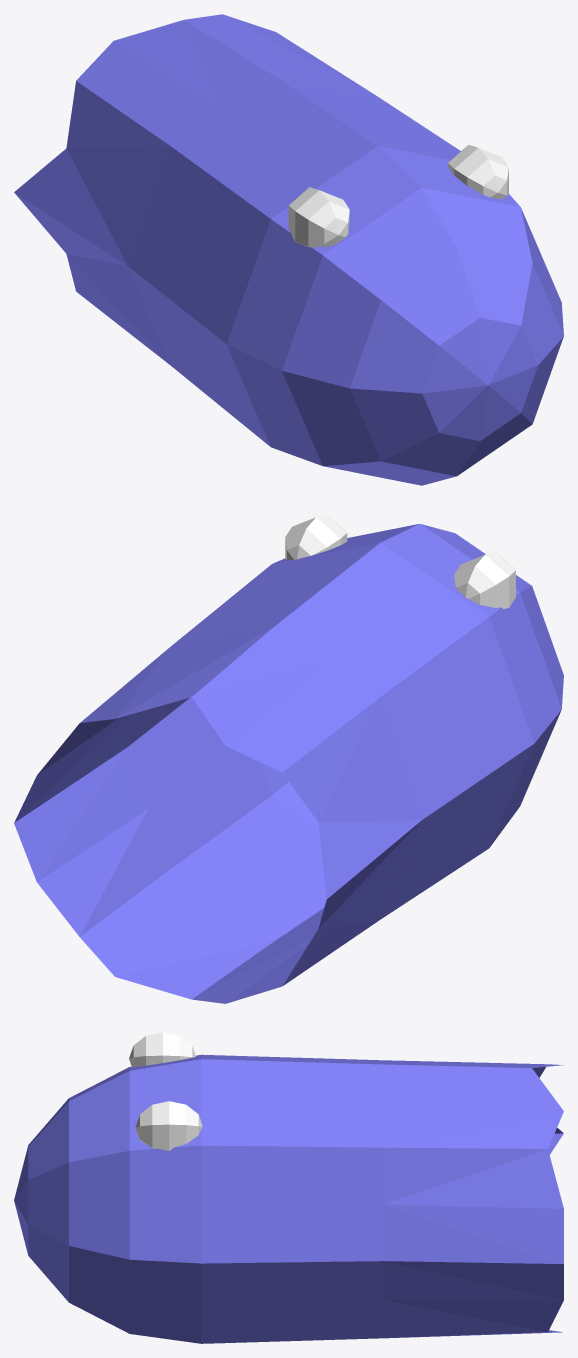
The model's file is blueghost_wtf.obj.
3 views of the same model, one above another, from view 1: azimuth 30°, elevation 25°; view 2: azimuth 150°, elevation 25°; view 3: azimuth 270°, elevation 25° (orthographic). The views are drawn at different scales.
Visible parts, largest first — view 1: group1, group2; view 2: group1, group2; view 3: group1, group2.
Part boxes in pixels (x1,y1,x2,y2): group1: (14,14,563,485); group2: (288,144,508,247); group1: (14,524,563,1003); group2: (285,514,515,608); group1: (14,1054,563,1343); group2: (129,1032,202,1150).
Bounding box in the file's own units: 371 × 371 × 660.
